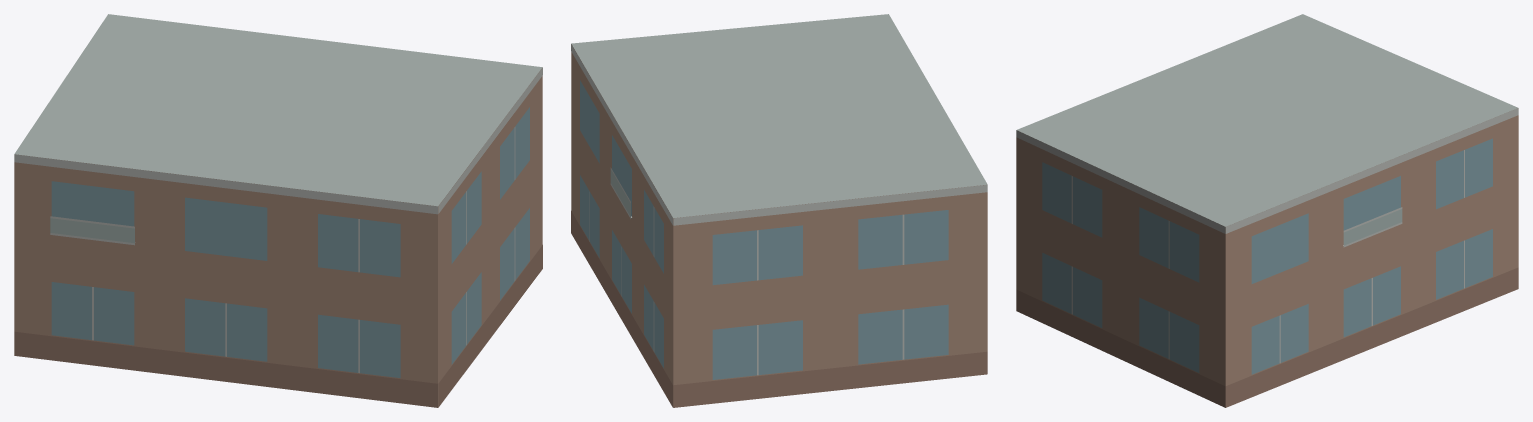
File: survey-upis-32614071.glb
3 views of the same model, side by side, from view 1: azimuth 30°, elevation 25°; view 2: azimuth 150°, elevation 25°; view 3: azimuth 270°, elevation 25° (orthographic). The views are drawn at different scales.
Parts seen in each view (by area): view 1: survey-upis-32614071.tmp; view 2: survey-upis-32614071.tmp; view 3: survey-upis-32614071.tmp.
Boxes of the visible parts, bbox=[...] form: survey-upis-32614071.tmp: bbox=[14, 14, 542, 407]; survey-upis-32614071.tmp: bbox=[571, 14, 987, 407]; survey-upis-32614071.tmp: bbox=[1016, 14, 1518, 407].
Size of the model in its own units: 15.39 by 6.1 by 15.34.
